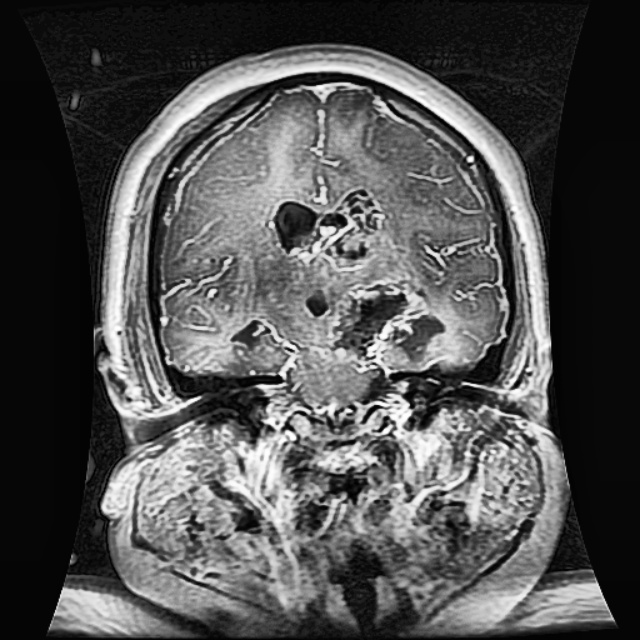Meningioma: (265, 183, 450, 370)
